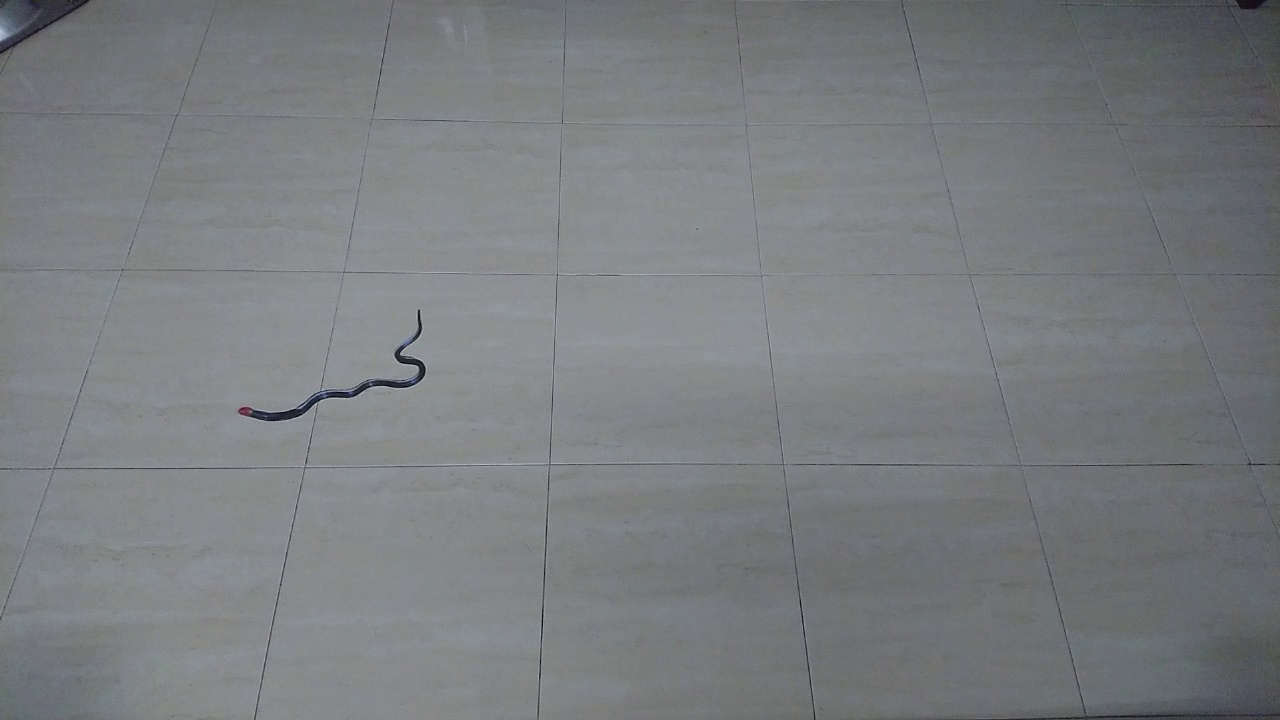snake: (229, 301, 459, 429)
